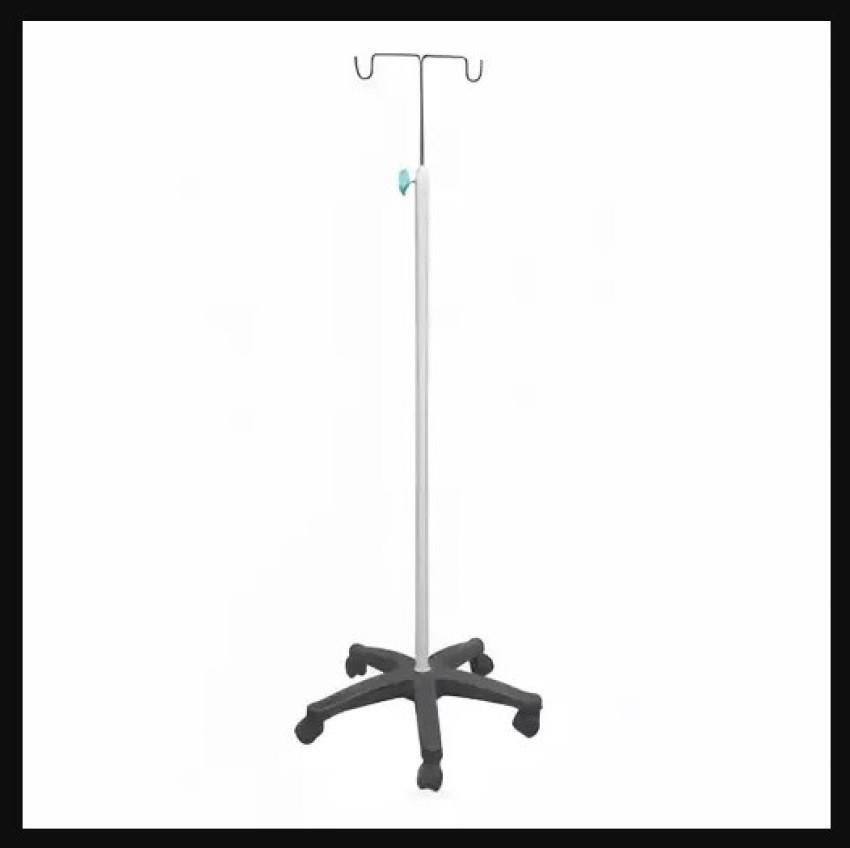Saline Stand: (292, 50, 543, 791)
